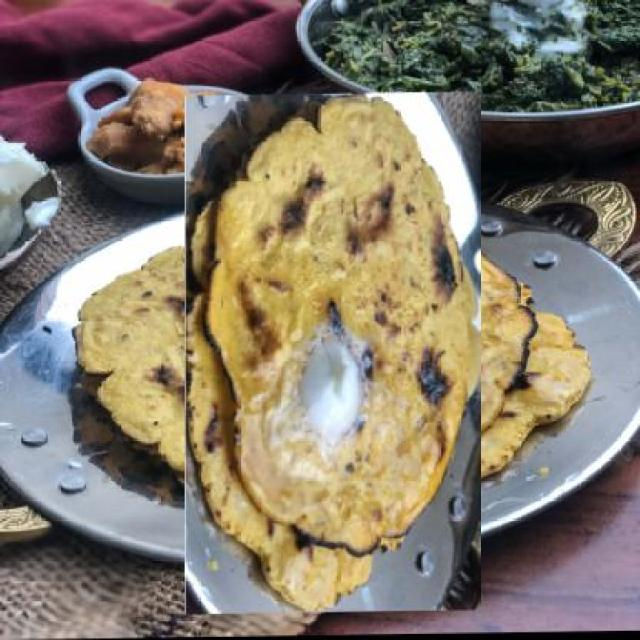chapati: (130, 149, 538, 562)
